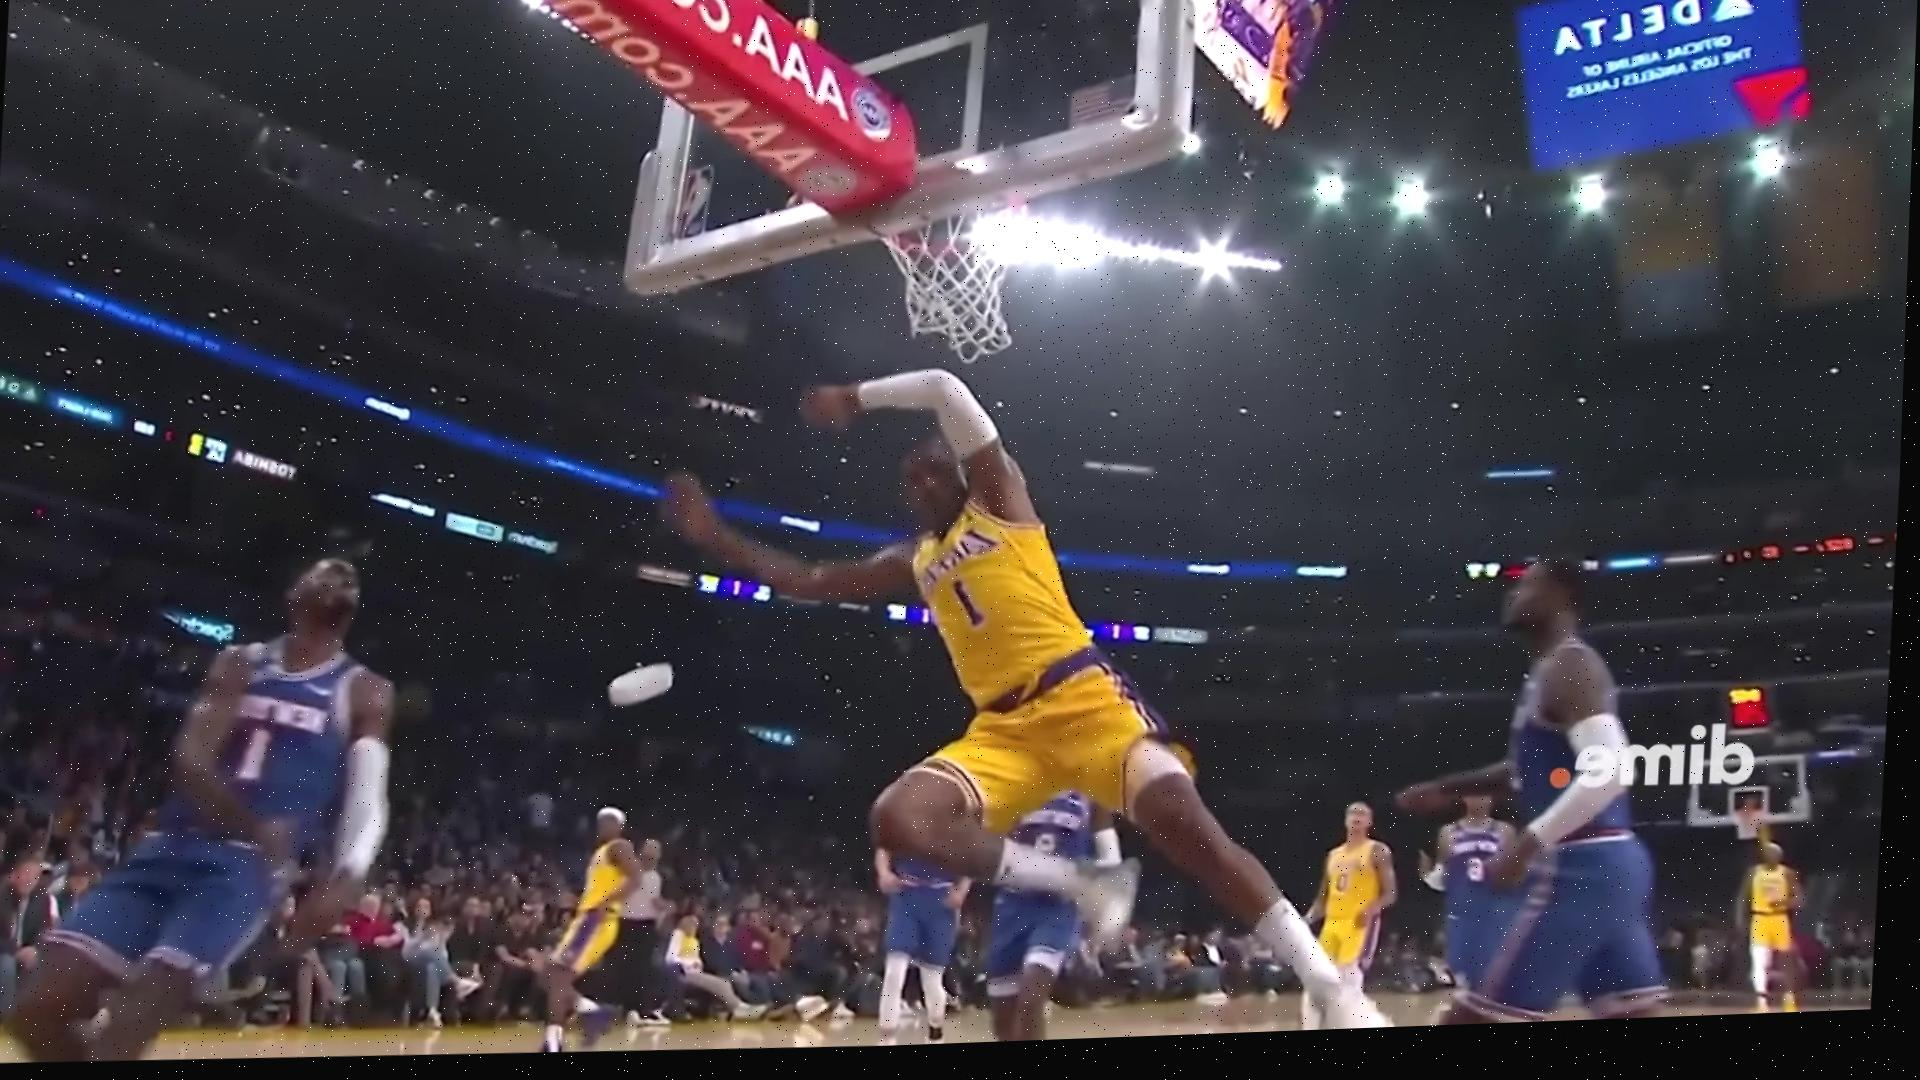no_foul: (3, 355, 1203, 1079)
